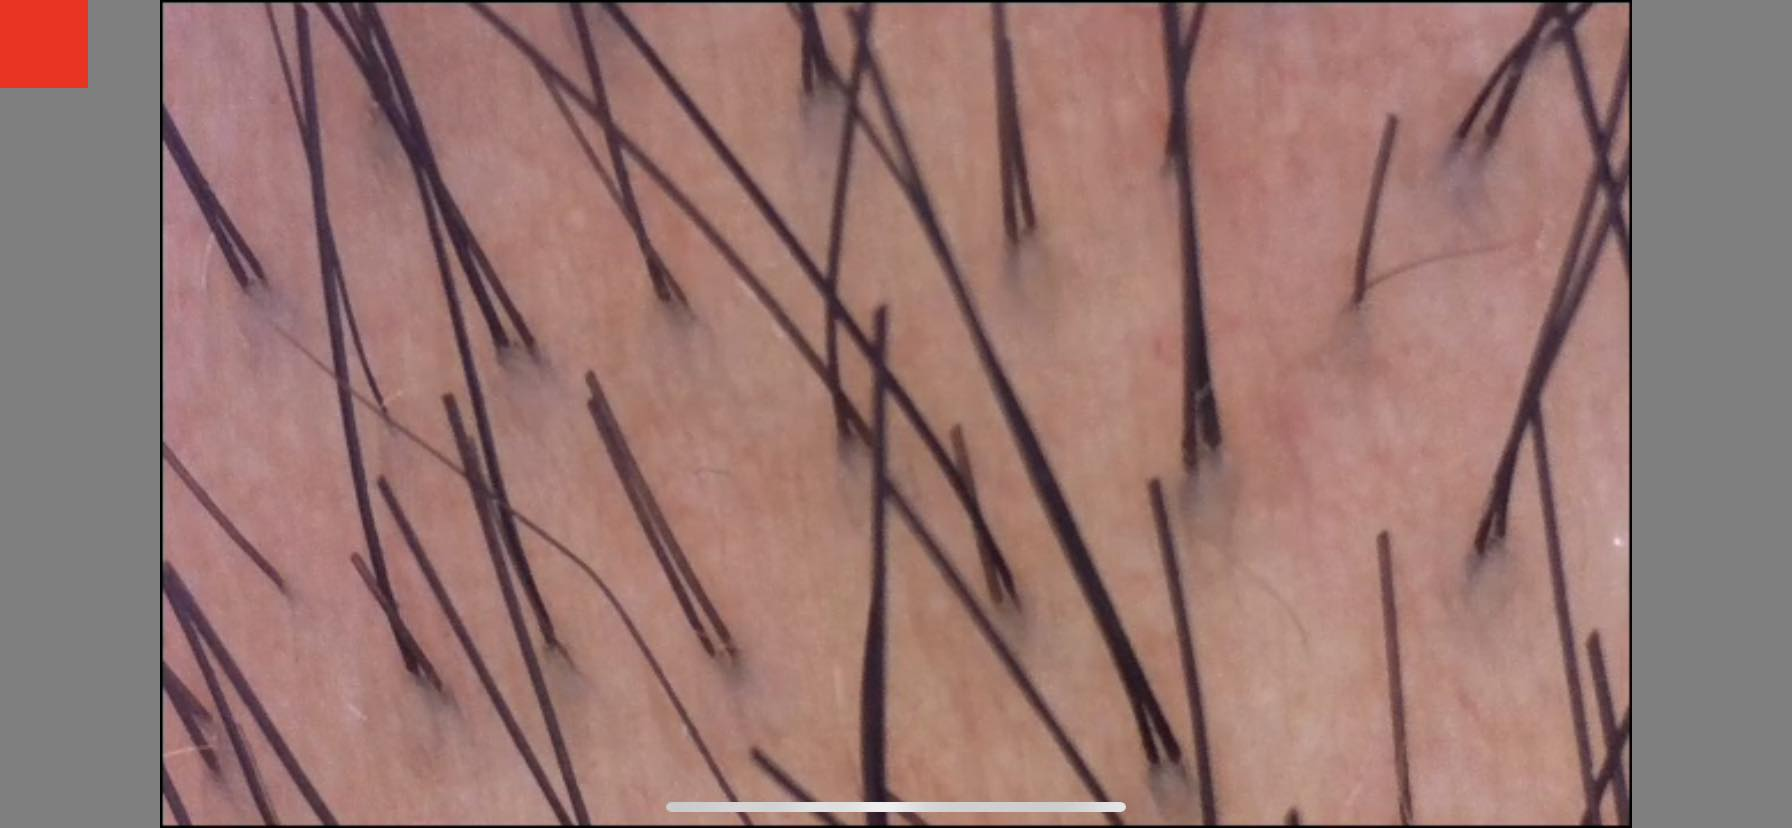FALSE: (1473, 221, 1529, 269), (1357, 514, 1409, 557), (1364, 103, 1417, 145), (858, 289, 907, 334), (729, 725, 776, 771), (1127, 463, 1178, 503), (979, 27, 1031, 66), (1572, 616, 1615, 655), (425, 380, 468, 416), (255, 311, 297, 348), (334, 538, 372, 576), (939, 410, 977, 448), (572, 390, 609, 422), (366, 465, 403, 496), (573, 357, 610, 388)
TRUE: (988, 199, 1054, 261), (688, 622, 753, 678), (784, 57, 848, 113), (639, 275, 706, 327), (1169, 427, 1232, 481), (1131, 732, 1191, 786), (979, 573, 1036, 624), (1447, 113, 1506, 160), (224, 260, 282, 305), (397, 652, 451, 700), (1146, 133, 1193, 183), (1466, 514, 1513, 563), (188, 749, 240, 792), (531, 619, 581, 663), (367, 398, 413, 443), (820, 413, 866, 456), (1338, 274, 1385, 317), (478, 323, 519, 364), (261, 568, 304, 607), (514, 325, 555, 365), (188, 699, 227, 737), (857, 426, 897, 463)
